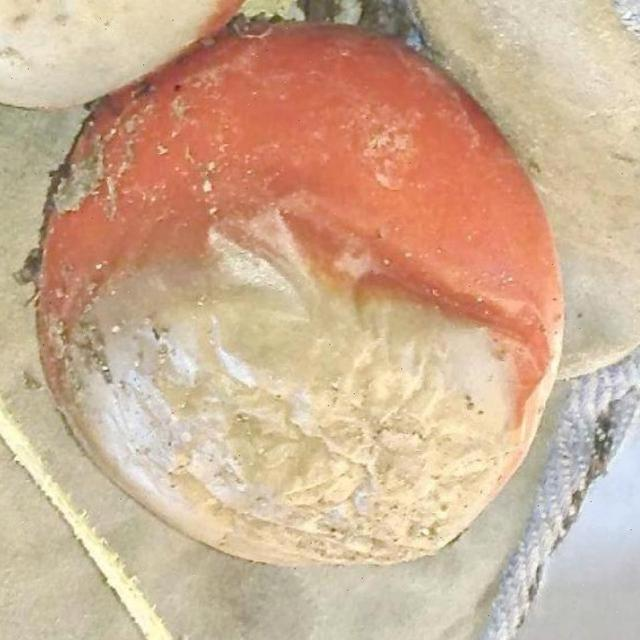Sunscald Fruit: (38, 143, 351, 377)
